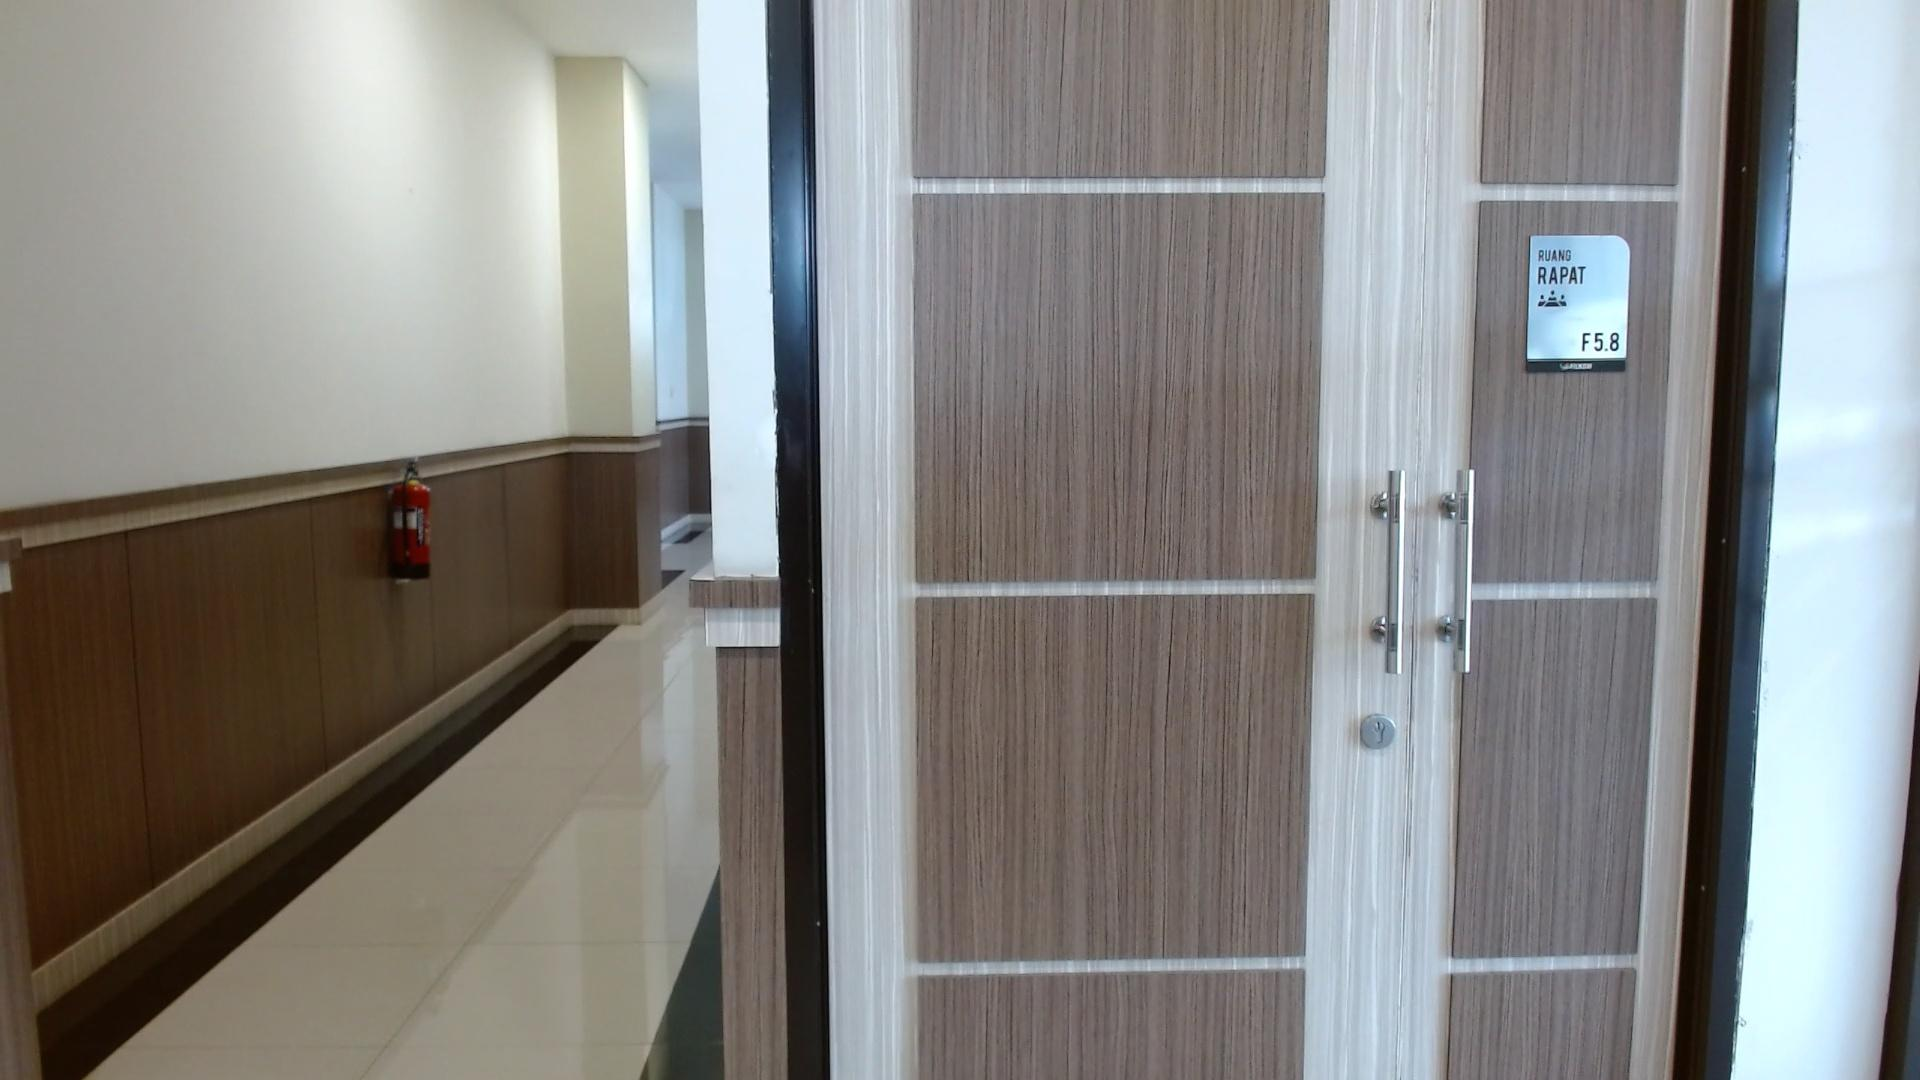plate: (1526, 233, 1633, 373)
